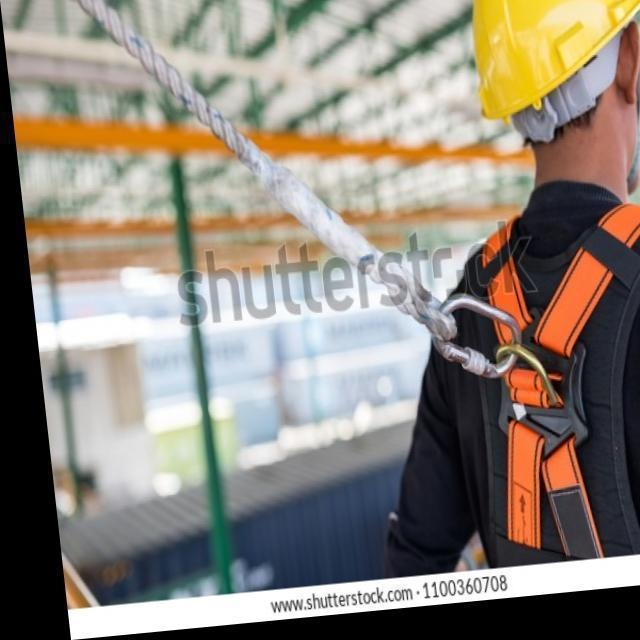Arnes_seguridad: (428, 201, 639, 562)
